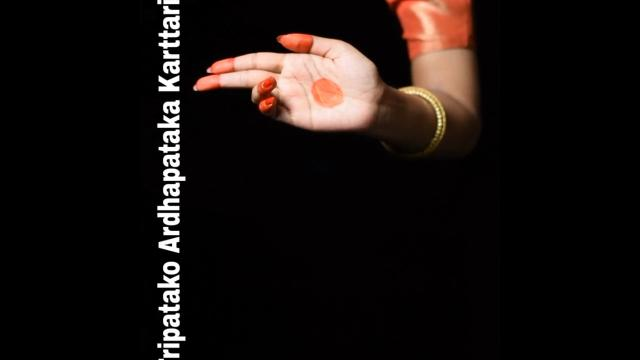ardhpataka: (190, 24, 388, 130)
